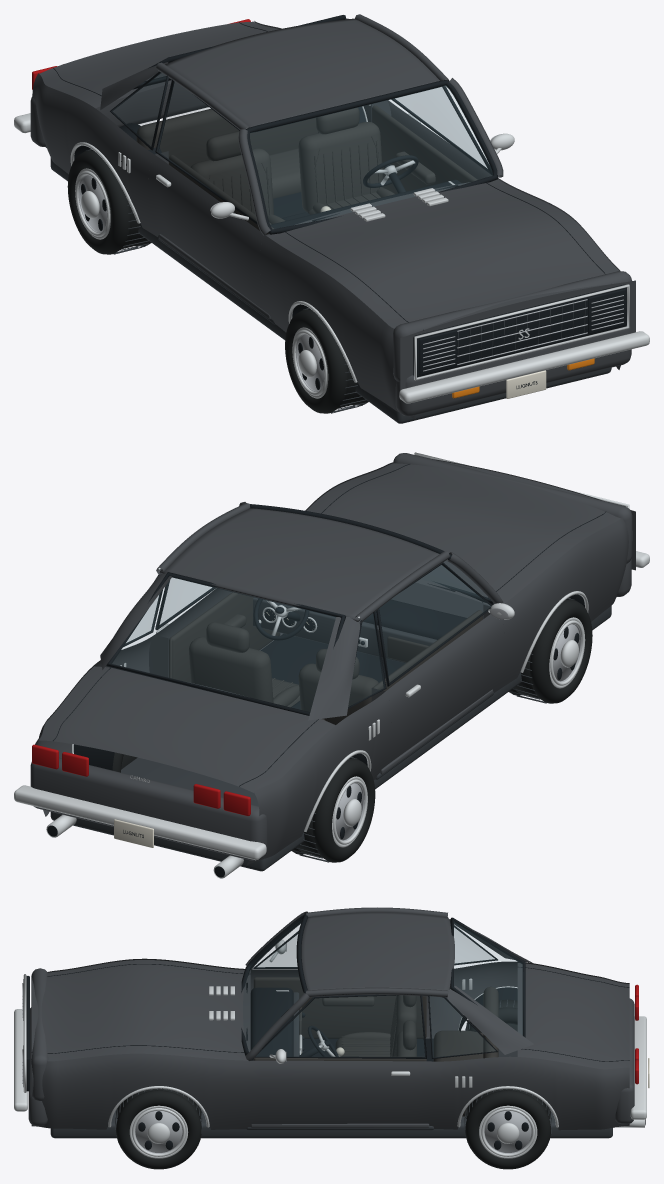
File: chris.glb
The picture shows the model from 3 angles, top to bottom: view 1: azimuth 30°, elevation 25°; view 2: azimuth 150°, elevation 25°; view 3: azimuth 270°, elevation 25°; orthographic projection. The views are drawn at different scales.
Parts seen in each view (by area): view 1: Body, DoorMesh_R, DoorMesh_L, WheelMesh_RR, WheelMesh_FR, SteeringWheelMesh; view 2: Body, DoorMesh_R, DoorMesh_L, WheelMesh_FR, WheelMesh_RR, SteeringWheelMesh; view 3: Body, DoorMesh_L, DoorMesh_R, WheelMesh_FL, WheelMesh_RL, WheelMesh_RR, SteeringWheelMesh.
Part boxes in pixels (x1,y1,x2,y2): Body: (14, 14, 649, 423); DoorMesh_R: (148, 79, 273, 319); DoorMesh_L: (371, 86, 514, 193); WheelMesh_RR: (67, 149, 151, 254); WheelMesh_FR: (285, 308, 368, 413); SteeringWheelMesh: (363, 155, 418, 187); Body: (14, 452, 649, 878); DoorMesh_R: (371, 562, 514, 774); DoorMesh_L: (148, 578, 280, 682); WheelMesh_FR: (509, 598, 592, 703); WheelMesh_RR: (291, 757, 375, 862); SteeringWheelMesh: (253, 598, 309, 640); Body: (14, 907, 649, 1138); DoorMesh_L: (250, 994, 429, 1127); DoorMesh_R: (250, 930, 429, 1038); WheelMesh_FL: (115, 1088, 202, 1169); WheelMesh_RL: (464, 1089, 551, 1169); WheelMesh_RR: (465, 999, 517, 1032); SteeringWheelMesh: (307, 1025, 338, 1056).
Bounding box in the file's own units: 2.21 × 1.51 × 5.
